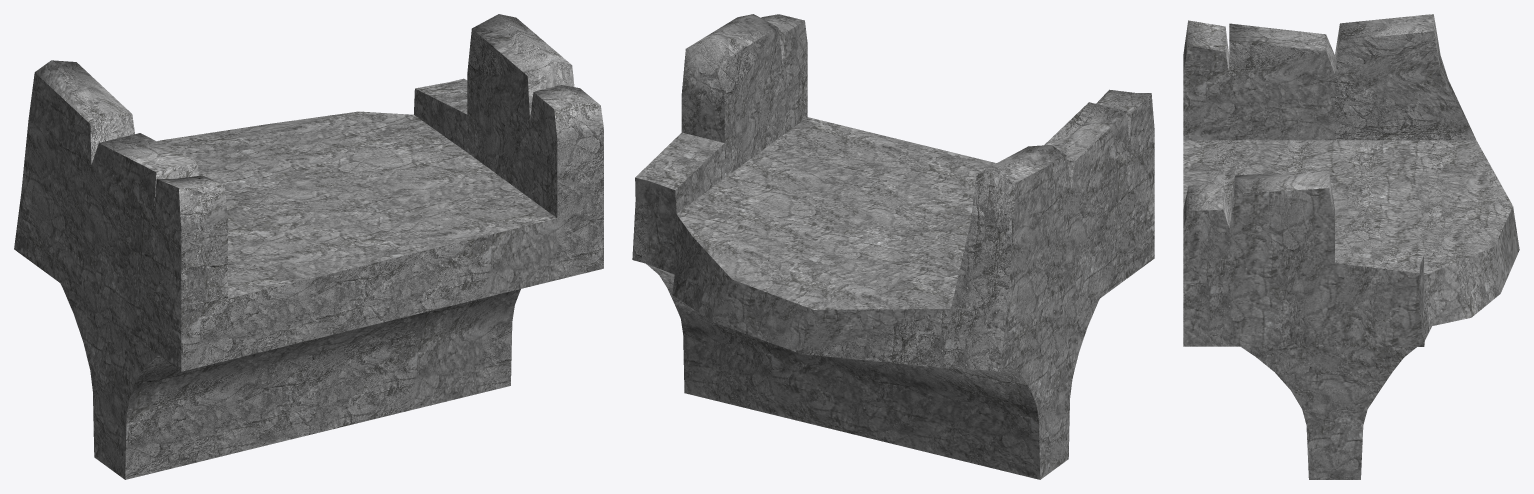
The model's file is materials_3_bridge_6.fbx.
3 renders of one model, left to right at view 1: azimuth 30°, elevation 25°; view 2: azimuth 150°, elevation 25°; view 3: azimuth 270°, elevation 25°, orthographic. The views are drawn at different scales.
Parts seen in each view (by area): view 1: materials_3_bridge_6; view 2: materials_3_bridge_6; view 3: materials_3_bridge_6.
Part boxes in pixels (x1,y1,x2,y2): materials_3_bridge_6: (14, 14, 603, 479); materials_3_bridge_6: (632, 14, 1154, 479); materials_3_bridge_6: (1183, 14, 1519, 479).
Bounding box in the file's own units: 300 × 248 × 246.
